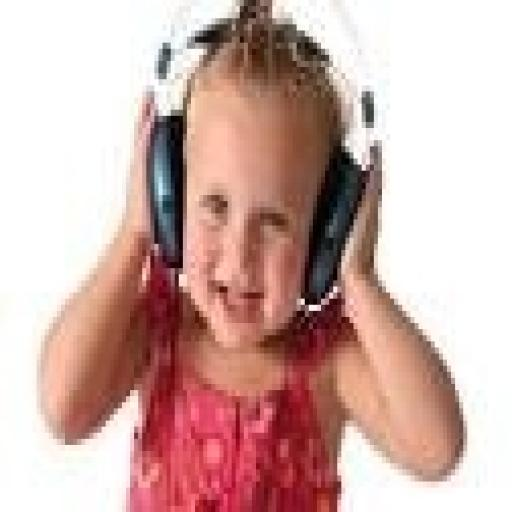listening_to_music: (32, 0, 468, 506)
